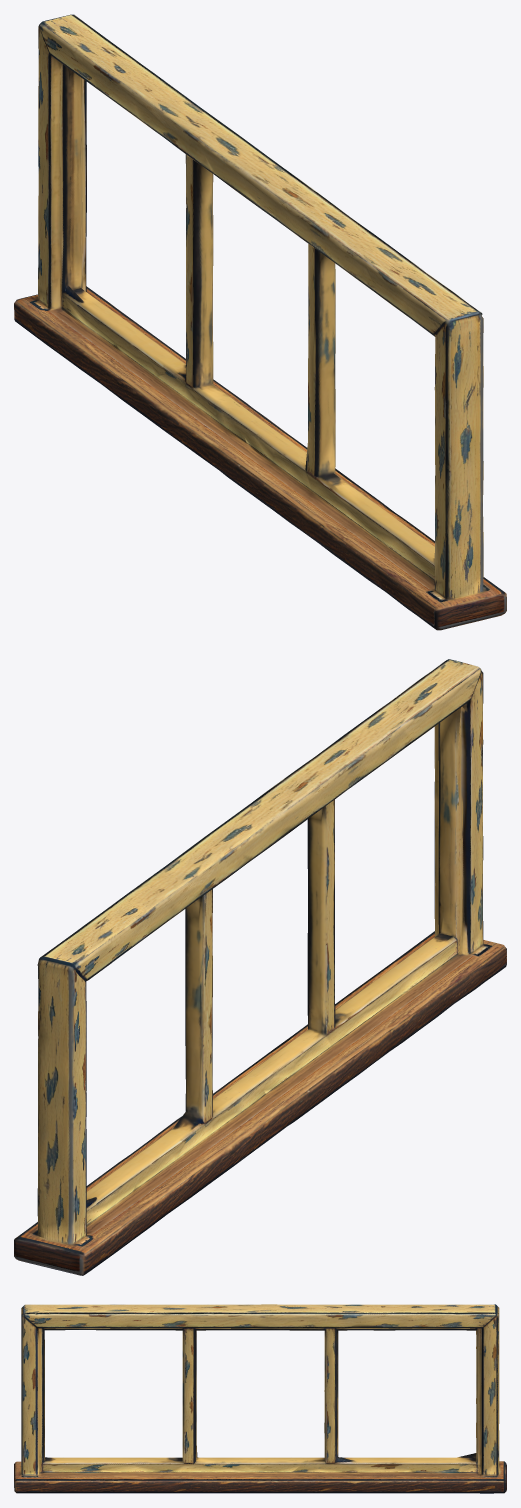
The model's file is ClassWindow.fbx.
3 views of the same model, one above another, from view 1: azimuth 30°, elevation 25°; view 2: azimuth 150°, elevation 25°; view 3: azimuth 270°, elevation 25° (orthographic). The views are drawn at different scales.
Visible parts, largest first — view 1: tripo_node_6ae1c24a-36c7-426e-b7fd-abc43b889b6a; view 2: tripo_node_6ae1c24a-36c7-426e-b7fd-abc43b889b6a; view 3: tripo_node_6ae1c24a-36c7-426e-b7fd-abc43b889b6a.
Boxes of the visible parts, x1,y1,x2,y2 form: tripo_node_6ae1c24a-36c7-426e-b7fd-abc43b889b6a: (14, 14, 506, 630); tripo_node_6ae1c24a-36c7-426e-b7fd-abc43b889b6a: (14, 659, 506, 1275); tripo_node_6ae1c24a-36c7-426e-b7fd-abc43b889b6a: (14, 1304, 506, 1493).
Bounding box in the file's own units: 9.92 × 39.39 × 100.
1 material, 1 textured.
